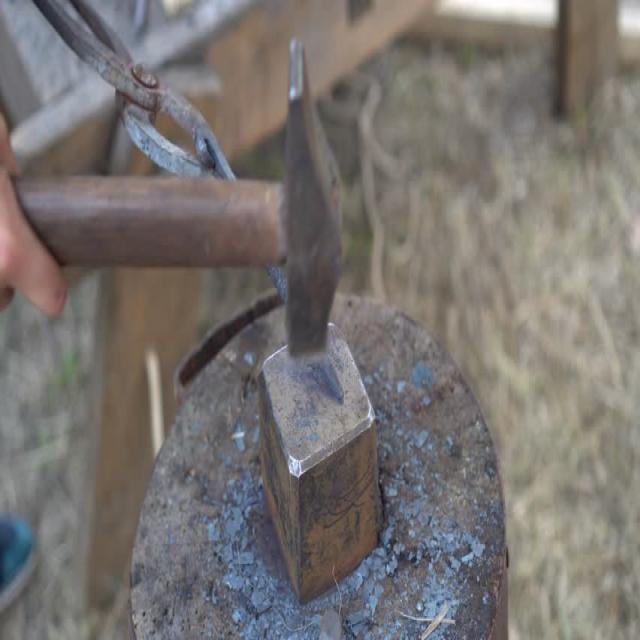hammer: (0, 27, 360, 366)
